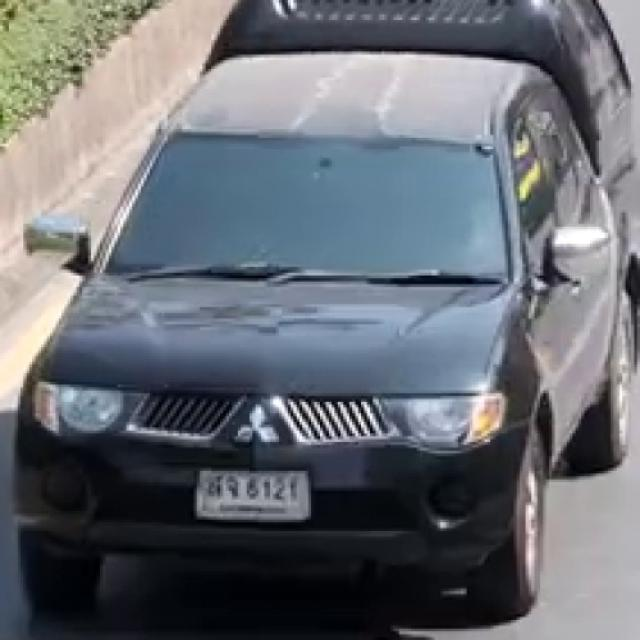plate: (193, 468, 314, 523)
